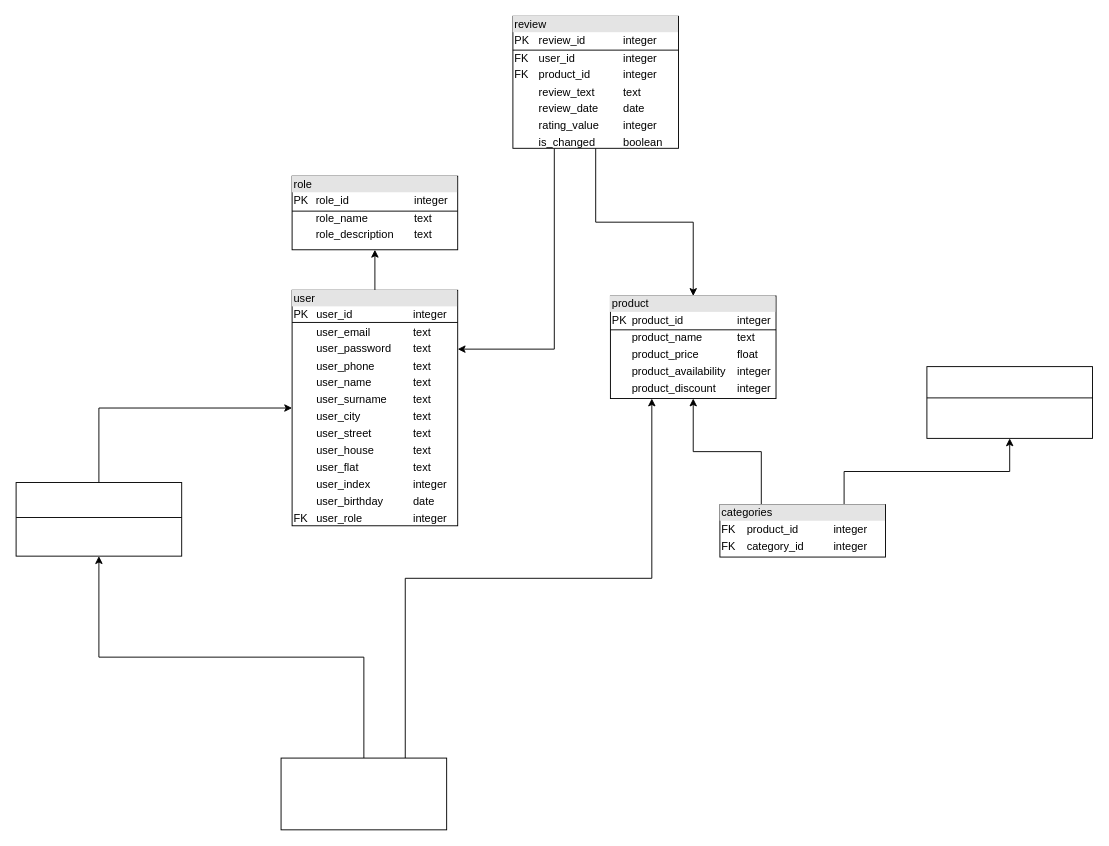
Image size: 1109x846. Some labels were removed from this diagram. Each missing label, with the centre of its shape:
"category PK category_id integer category_name text category_description text" belongs at pixel 1009 402.
"order PK order_id integer FK user_id integer order_date date" belongs at pixel 98 519.
"orders FK order_id integer FK product_id integer is_approved boolean" belongs at pixel 363 793.
